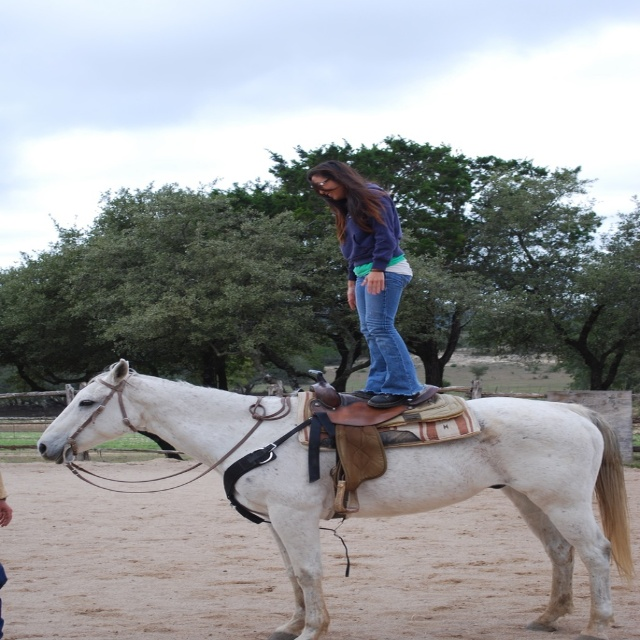Horse: (35, 358, 637, 640)
